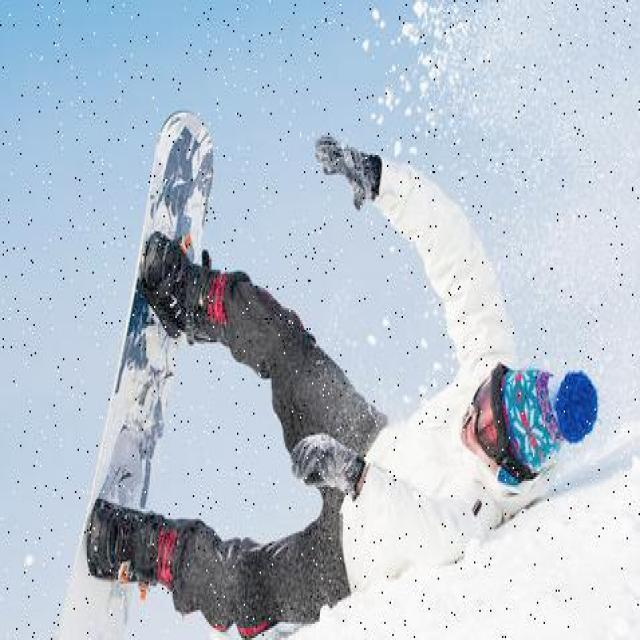fall: (160, 153, 568, 626)
